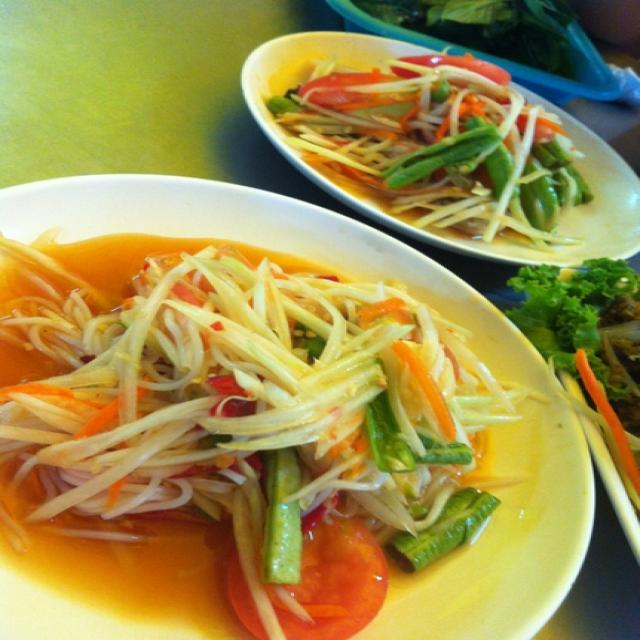蔬菜料理: (26, 0, 617, 612)
